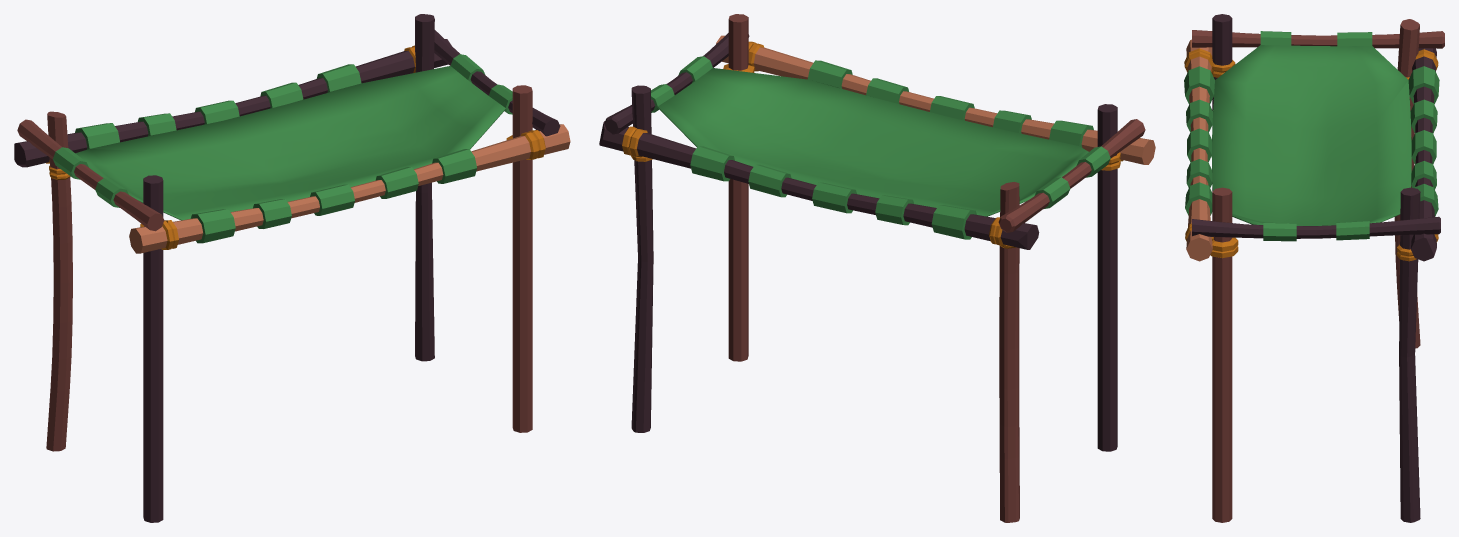
The model's file is Canopy 01.fbx.
3 renders of one model, left to right at view 1: azimuth 30°, elevation 25°; view 2: azimuth 150°, elevation 25°; view 3: azimuth 270°, elevation 25°, orthographic. The views are drawn at different scales.
Parts seen in each view (by area): view 1: Canopy 01; view 2: Canopy 01; view 3: Canopy 01.
Part boxes in pixels (box(x1,y1,x2,y2)): Canopy 01: box(14, 14, 570, 522); Canopy 01: box(599, 14, 1155, 522); Canopy 01: box(1184, 14, 1444, 522).
Bounding box in the file's own units: 399 × 303 × 219.
